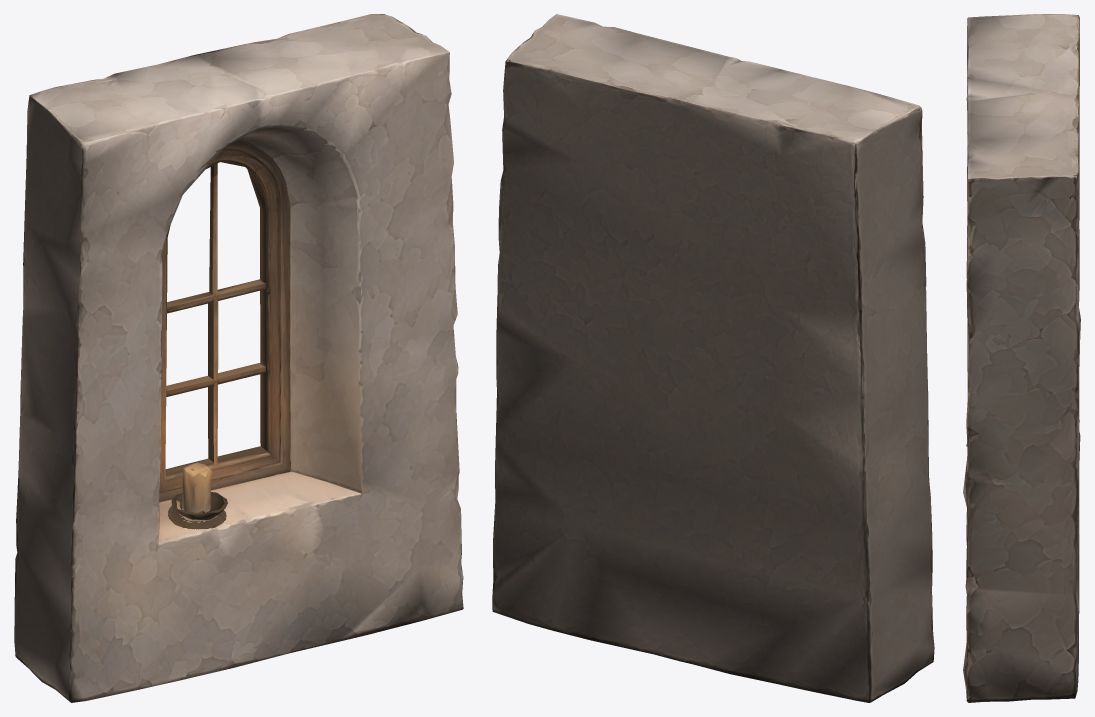
Rendered from act1_extras_v1_tall_ward_window.glb.
3 renders of one model, left to right at view 1: azimuth 30°, elevation 25°; view 2: azimuth 150°, elevation 25°; view 3: azimuth 270°, elevation 25°, orthographic. The views are drawn at different scales.
Parts seen in each view (by area): view 1: A19_6_tall_ward_window; view 2: A19_6_tall_ward_window; view 3: A19_6_tall_ward_window.
Boxes of the visible parts, left/top/right/bottom form: A19_6_tall_ward_window: left=14, top=14, right=463, bottom=702; A19_6_tall_ward_window: left=492, top=14, right=934, bottom=702; A19_6_tall_ward_window: left=963, top=14, right=1080, bottom=702.
Size of the model in its own units: 0.7275 by 0.998 by 0.2036.
Materials: 1 (1 with a texture image).
